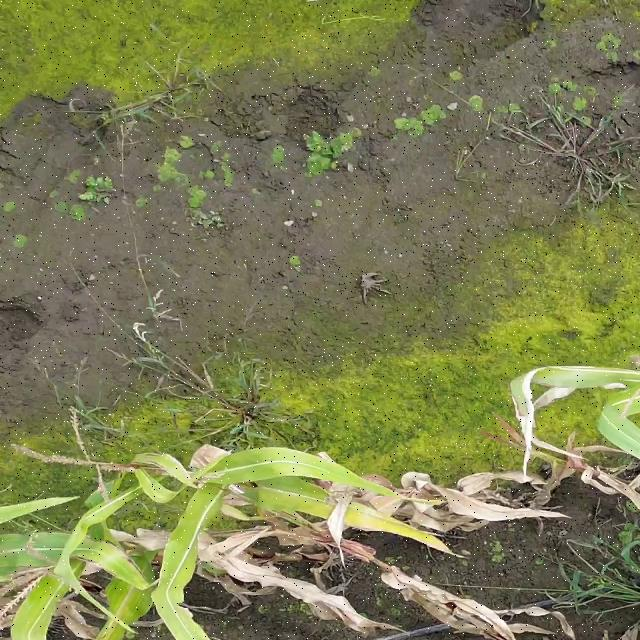northern-leaf-blight: (504, 366, 640, 437)
